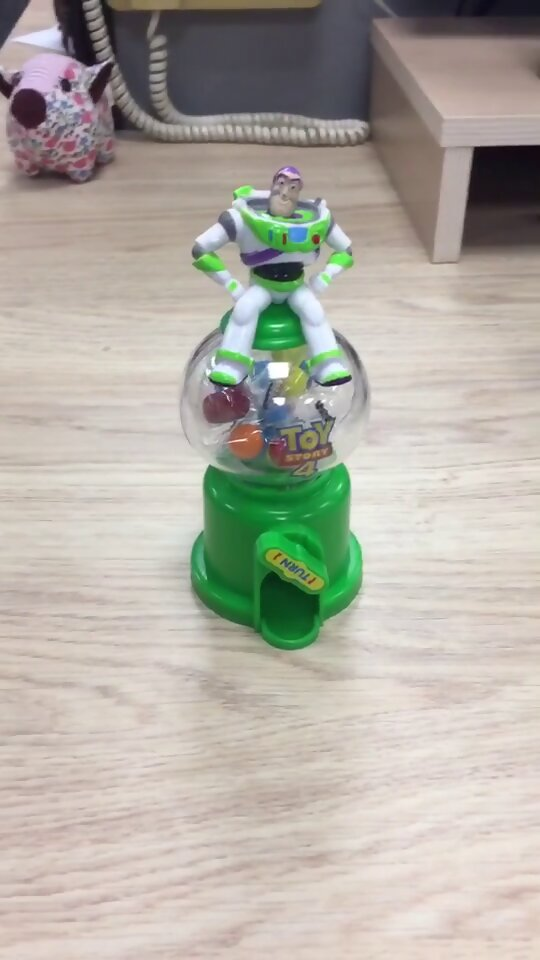buzz: (175, 162, 372, 655)
